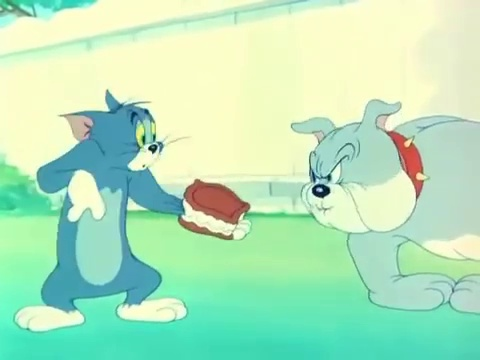spike: (285, 97, 432, 234)
tom: (56, 89, 166, 176)
